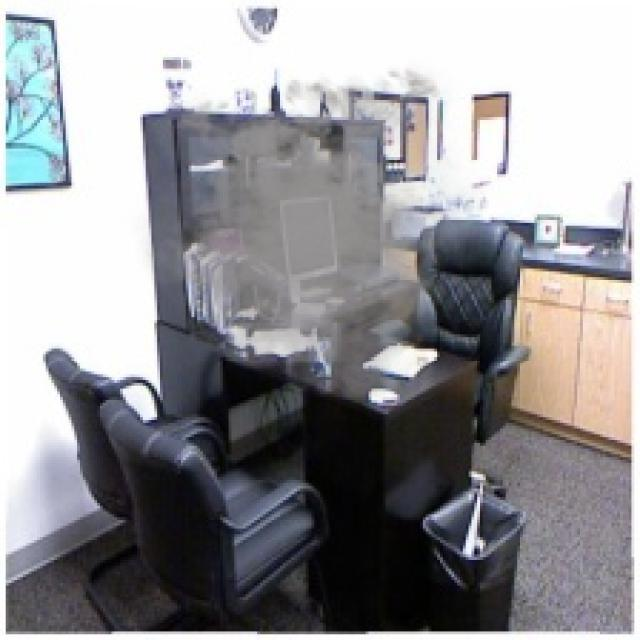smoke: (123, 57, 494, 406)
